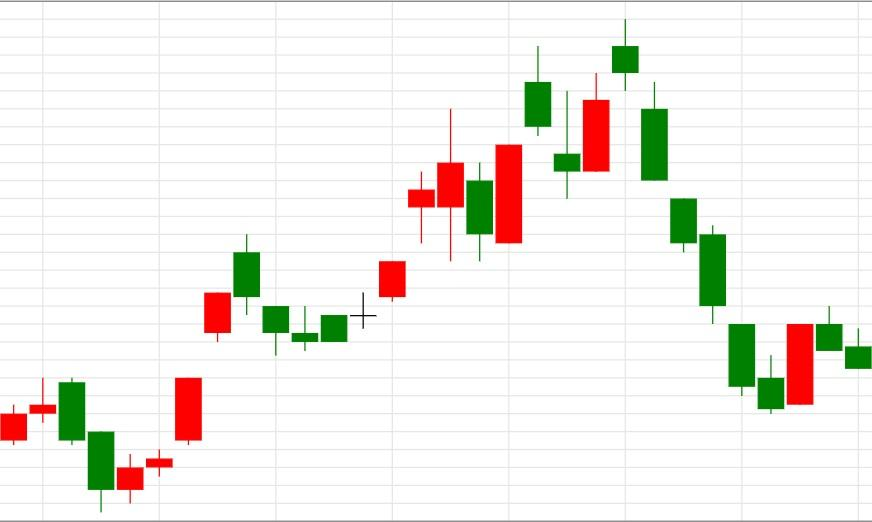three_black_crows_fall: (115, 234, 319, 505), (554, 18, 698, 254)
